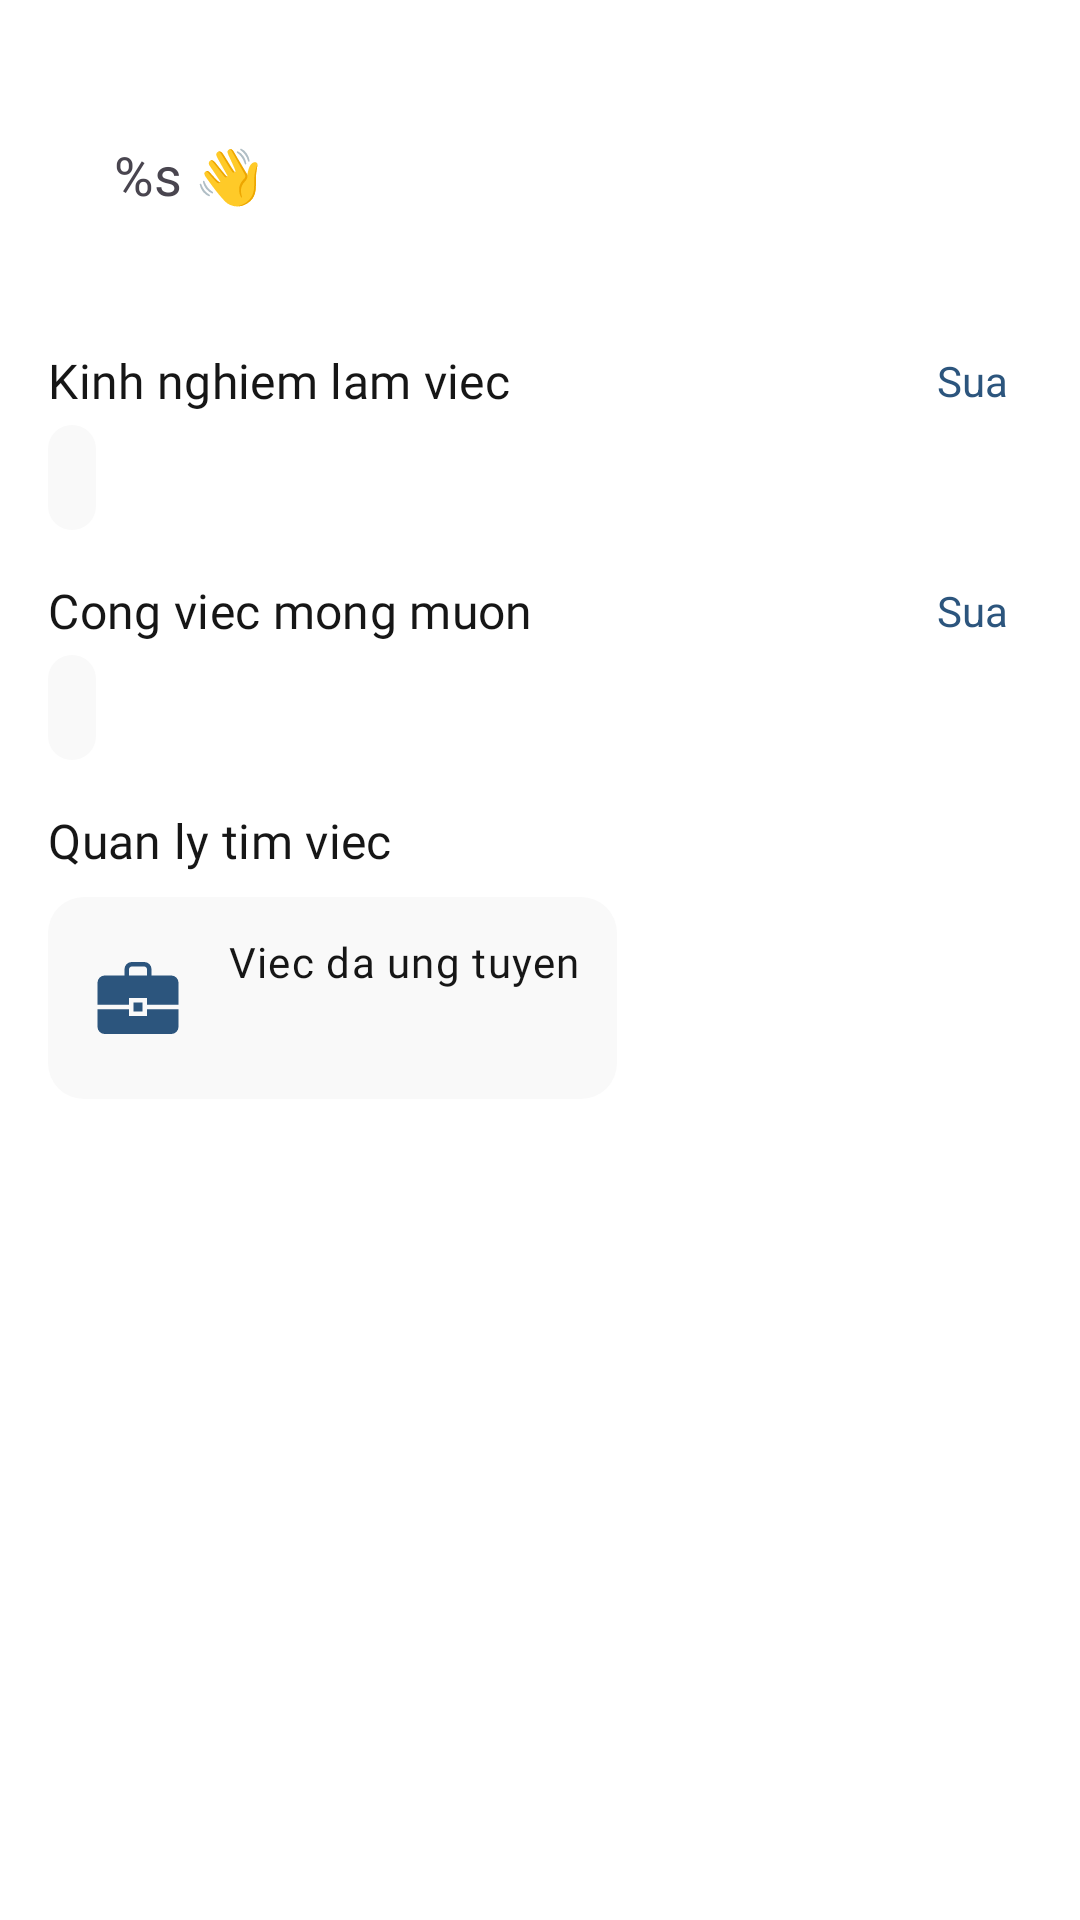

Named icons in this screenshot (1080px×1920px) and their bounding boxes, (x1, y1, x2, y2):
work: (97, 962, 179, 1034)
